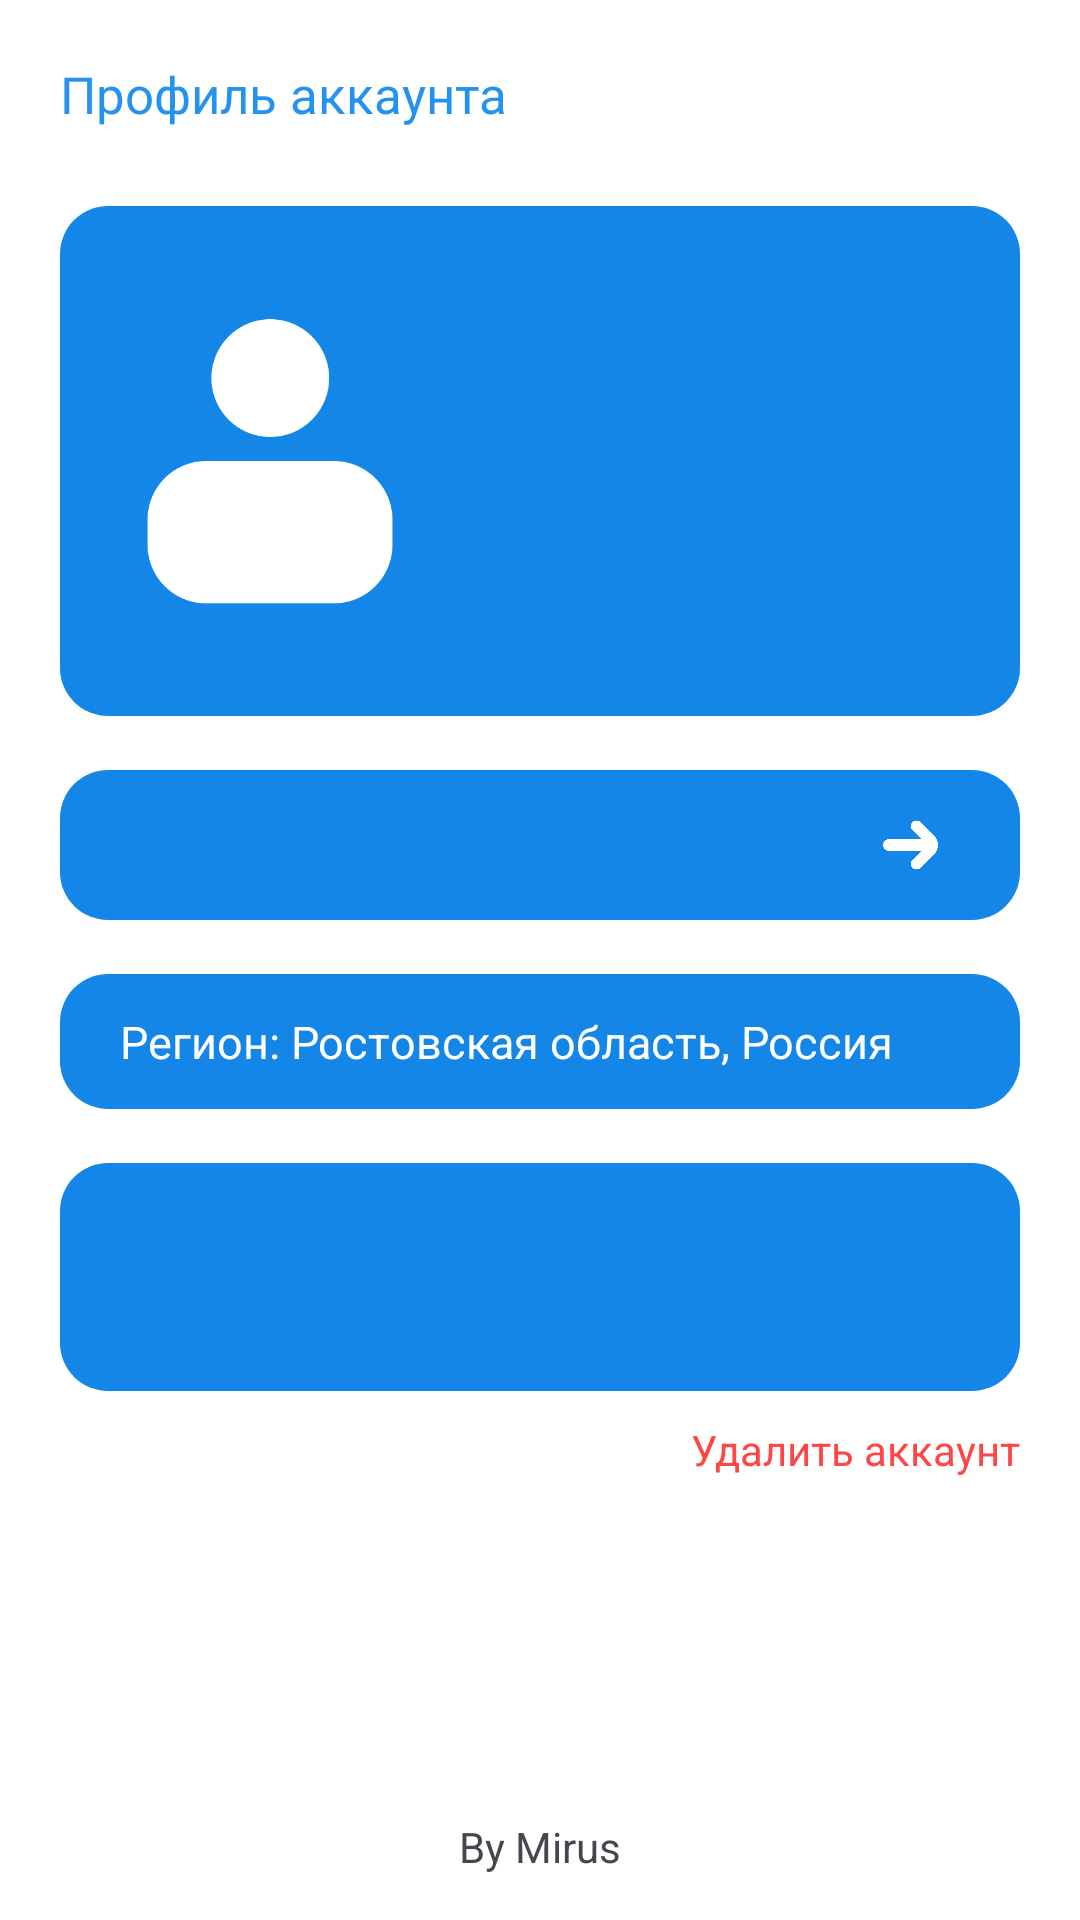

Point at icon controls on the screen. Image size 1080 × 1920, points as (x,y).
rightstrip: (910,845)
whiteprofile: (270,461)
